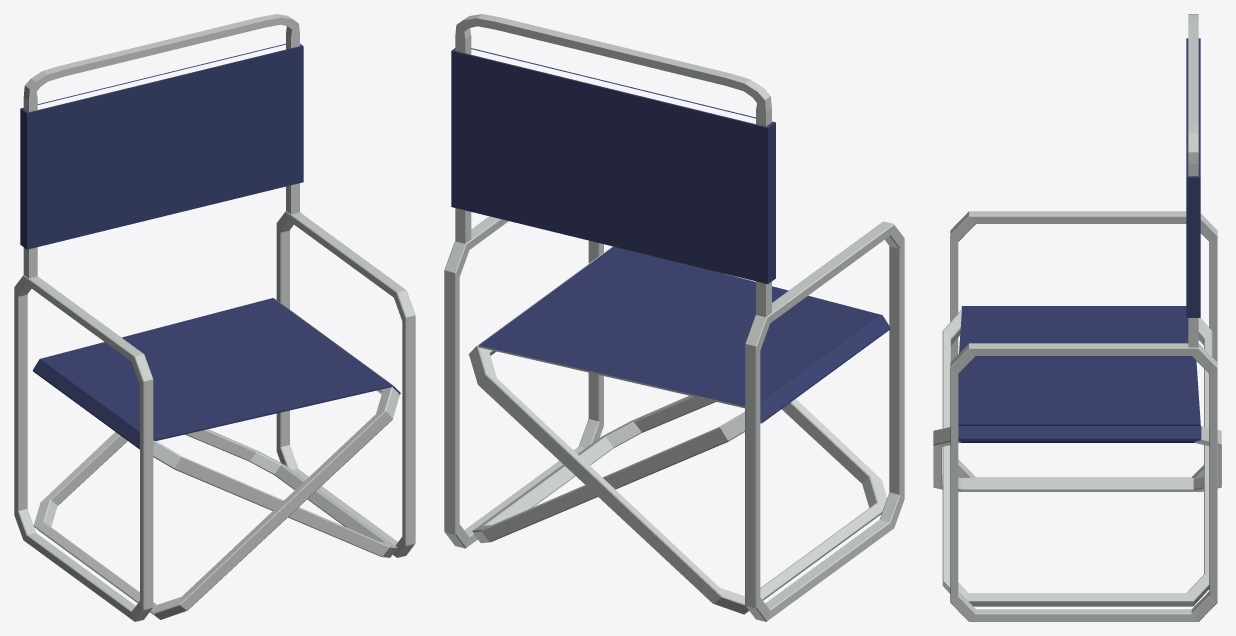
The model's file is Chair_07.glb.
3 views of the same model, side by side, from view 1: azimuth 30°, elevation 25°; view 2: azimuth 150°, elevation 25°; view 3: azimuth 270°, elevation 25° (orthographic). The views are drawn at different scales.
Parts seen in each view (by area): view 1: ChairBar_01; view 2: ChairBar_01; view 3: ChairBar_01.
Boxes of the visible parts, left/top/right/bottom form: ChairBar_01: left=14, top=14, right=415, bottom=621; ChairBar_01: left=444, top=14, right=904, bottom=621; ChairBar_01: left=933, top=14, right=1221, bottom=621.
Size of what is drawn, in the model's own units: 1 by 1.62 by 0.8782.
1 material, 1 textured.
